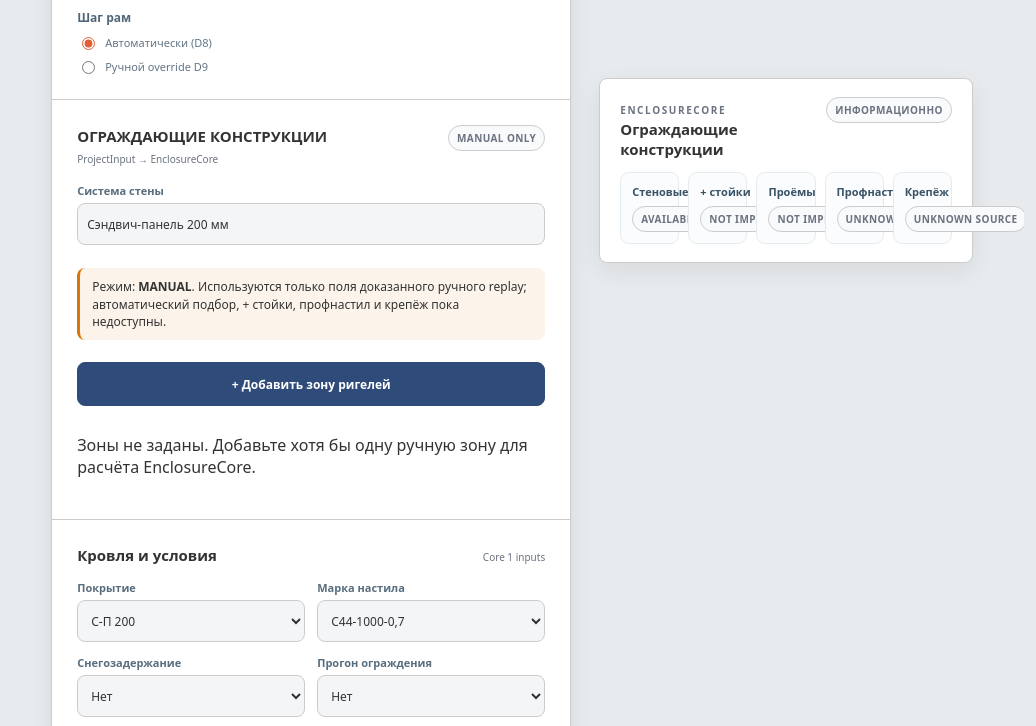
Test: EngineeringPreviewPage › passes repeatable wall-girt zones through EnclosureCore and shows the returned mass
(page scrolled)
Click the button "+ Добавить зону ригелей". click: (311, 384)
box: [77,362,545,406]
(page scrolled)
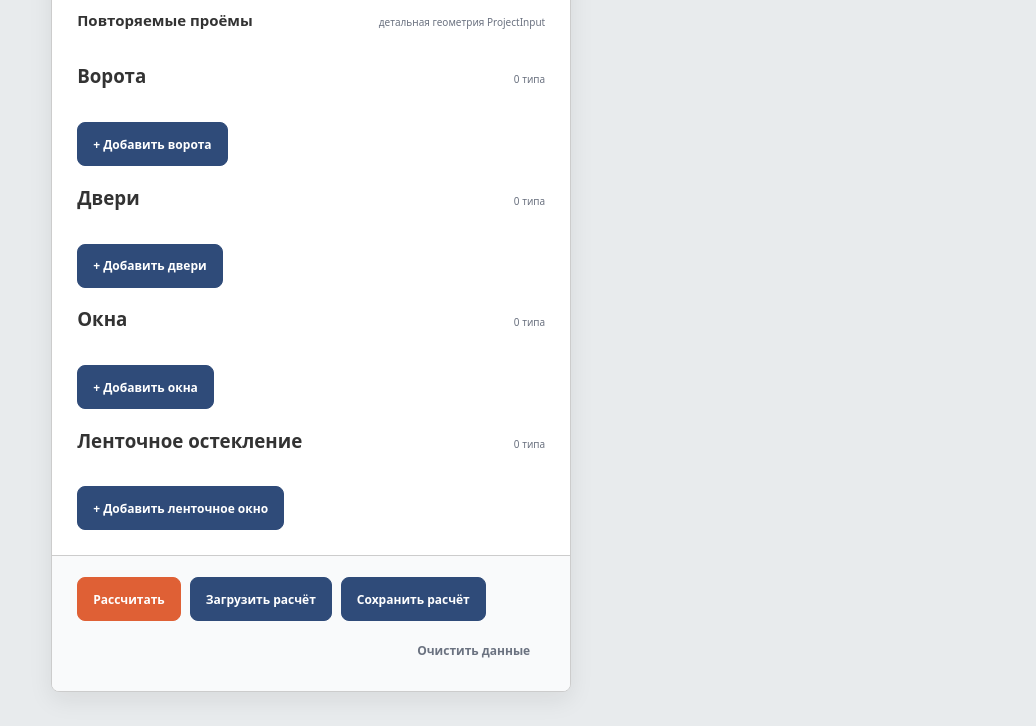
Click the button "Рассчитать". click: (129, 600)
box: [77,578,181,622]
(page scrolled)
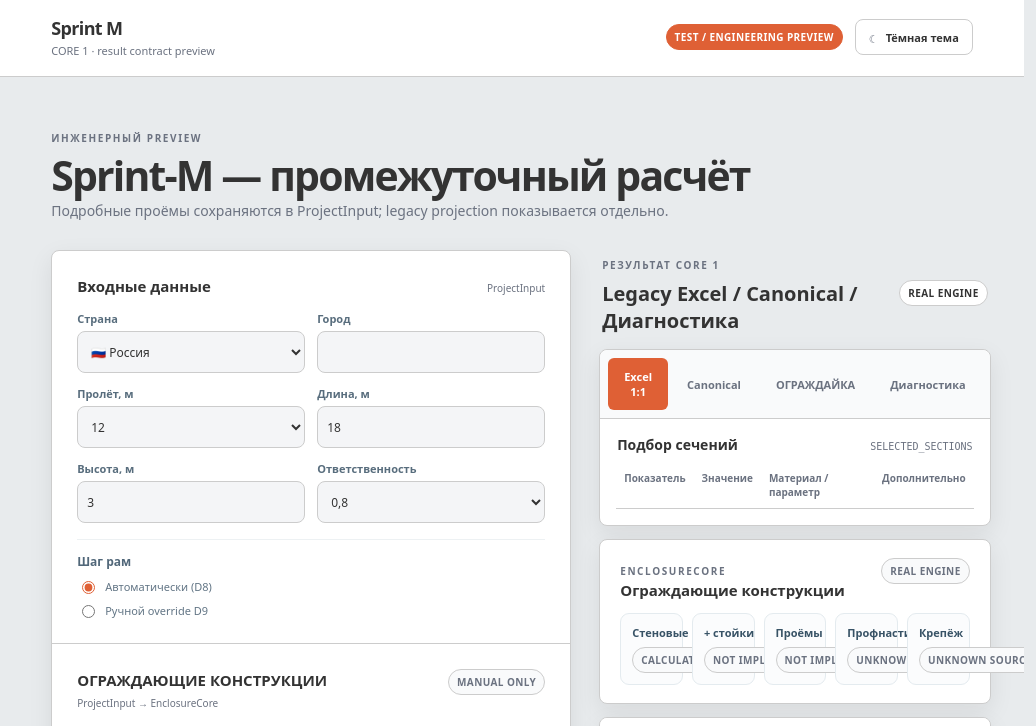
Click the button "ОГРАЖДАЙКА". click: (816, 384)
box: [760,358,871,410]
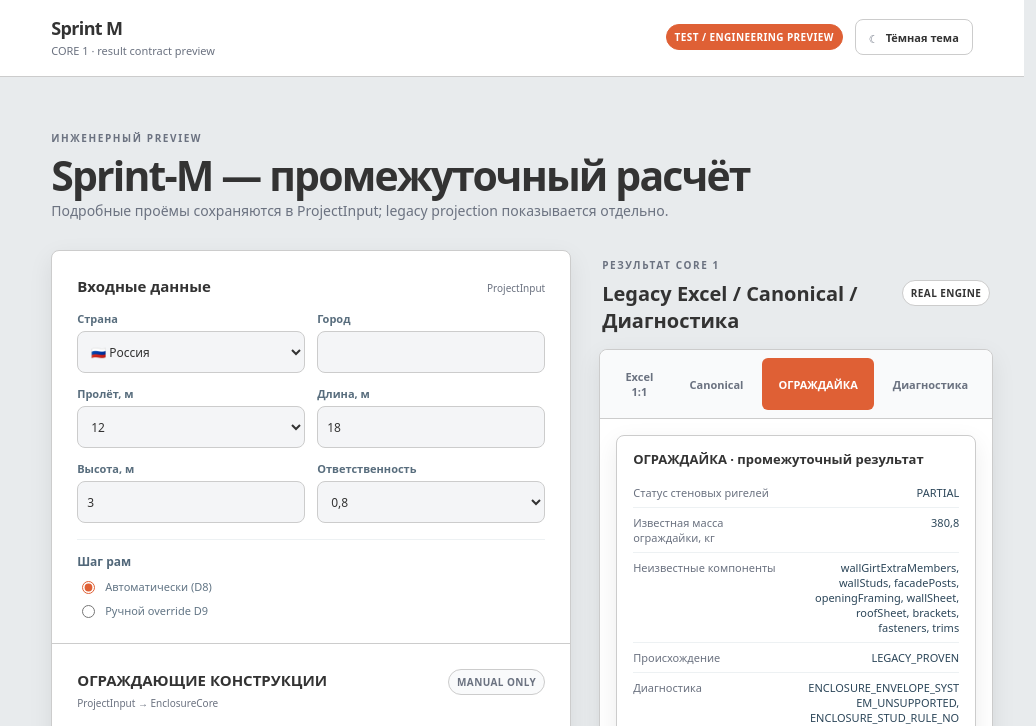
Check: the text "Неизвестные компоненты" is shown, box [633,560,776,575]
